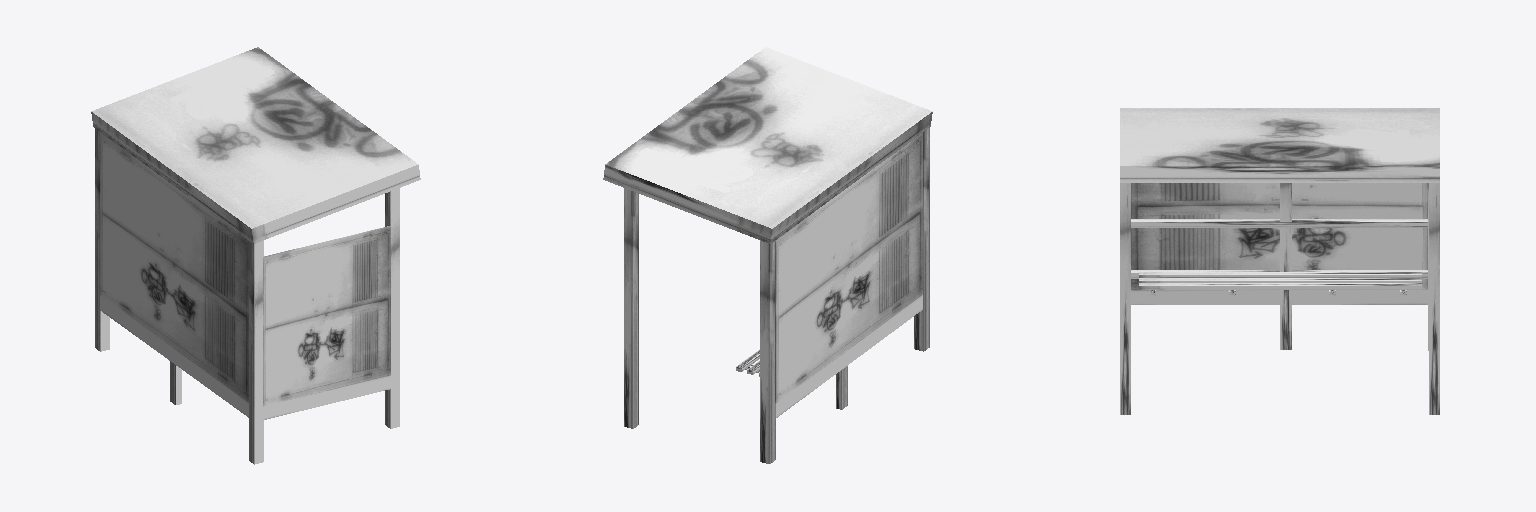
3 renders of one model, left to right at view 1: azimuth 30°, elevation 25°; view 2: azimuth 150°, elevation 25°; view 3: azimuth 270°, elevation 25°, orthographic.
Visible parts, largest first — view 1: Cube.009, Plane, Plane.001, Cube.001, Cube.002, Cube.003; view 2: Cube.009, Plane, Cube.004, Cube.003, Cube.001; view 3: Plane, Cube.009, Cube.006, Cube.002, Cube.004, Cube.022_Cube.024, Cube.008, Cube.020_Cube.022, Cube.021_Cube.023, Cube.005.
Part boxes in pixels (bbox=[...]): Cube.009: bbox=[91, 47, 420, 243]; Plane: bbox=[100, 132, 248, 417]; Plane.001: bbox=[263, 226, 390, 419]; Cube.001: bbox=[249, 240, 263, 464]; Cube.002: bbox=[385, 188, 399, 428]; Cube.003: bbox=[95, 128, 109, 351]; Cube.009: bbox=[603, 47, 932, 243]; Plane: bbox=[775, 133, 922, 418]; Cube.004: bbox=[624, 188, 638, 428]; Cube.003: bbox=[760, 240, 775, 463]; Cube.001: bbox=[914, 128, 929, 351]; Plane: bbox=[1131, 183, 1427, 304]; Cube.009: bbox=[1120, 108, 1439, 182]; Cube.006: bbox=[1131, 219, 1427, 227]; Cube.002: bbox=[1120, 183, 1130, 414]; Cube.004: bbox=[1429, 183, 1439, 414]; Cube.022_Cube.024: bbox=[1139, 283, 1421, 289]; Cube.008: bbox=[1280, 183, 1291, 349]; Cube.020_Cube.022: bbox=[1139, 272, 1421, 277]; Cube.021_Cube.023: bbox=[1139, 278, 1421, 282]; Cube.005: bbox=[1131, 270, 1427, 278].
Bounding box in the file's own units: 8.69 × 12.78 × 14.28.
Materials: 2 (1 with a texture image).